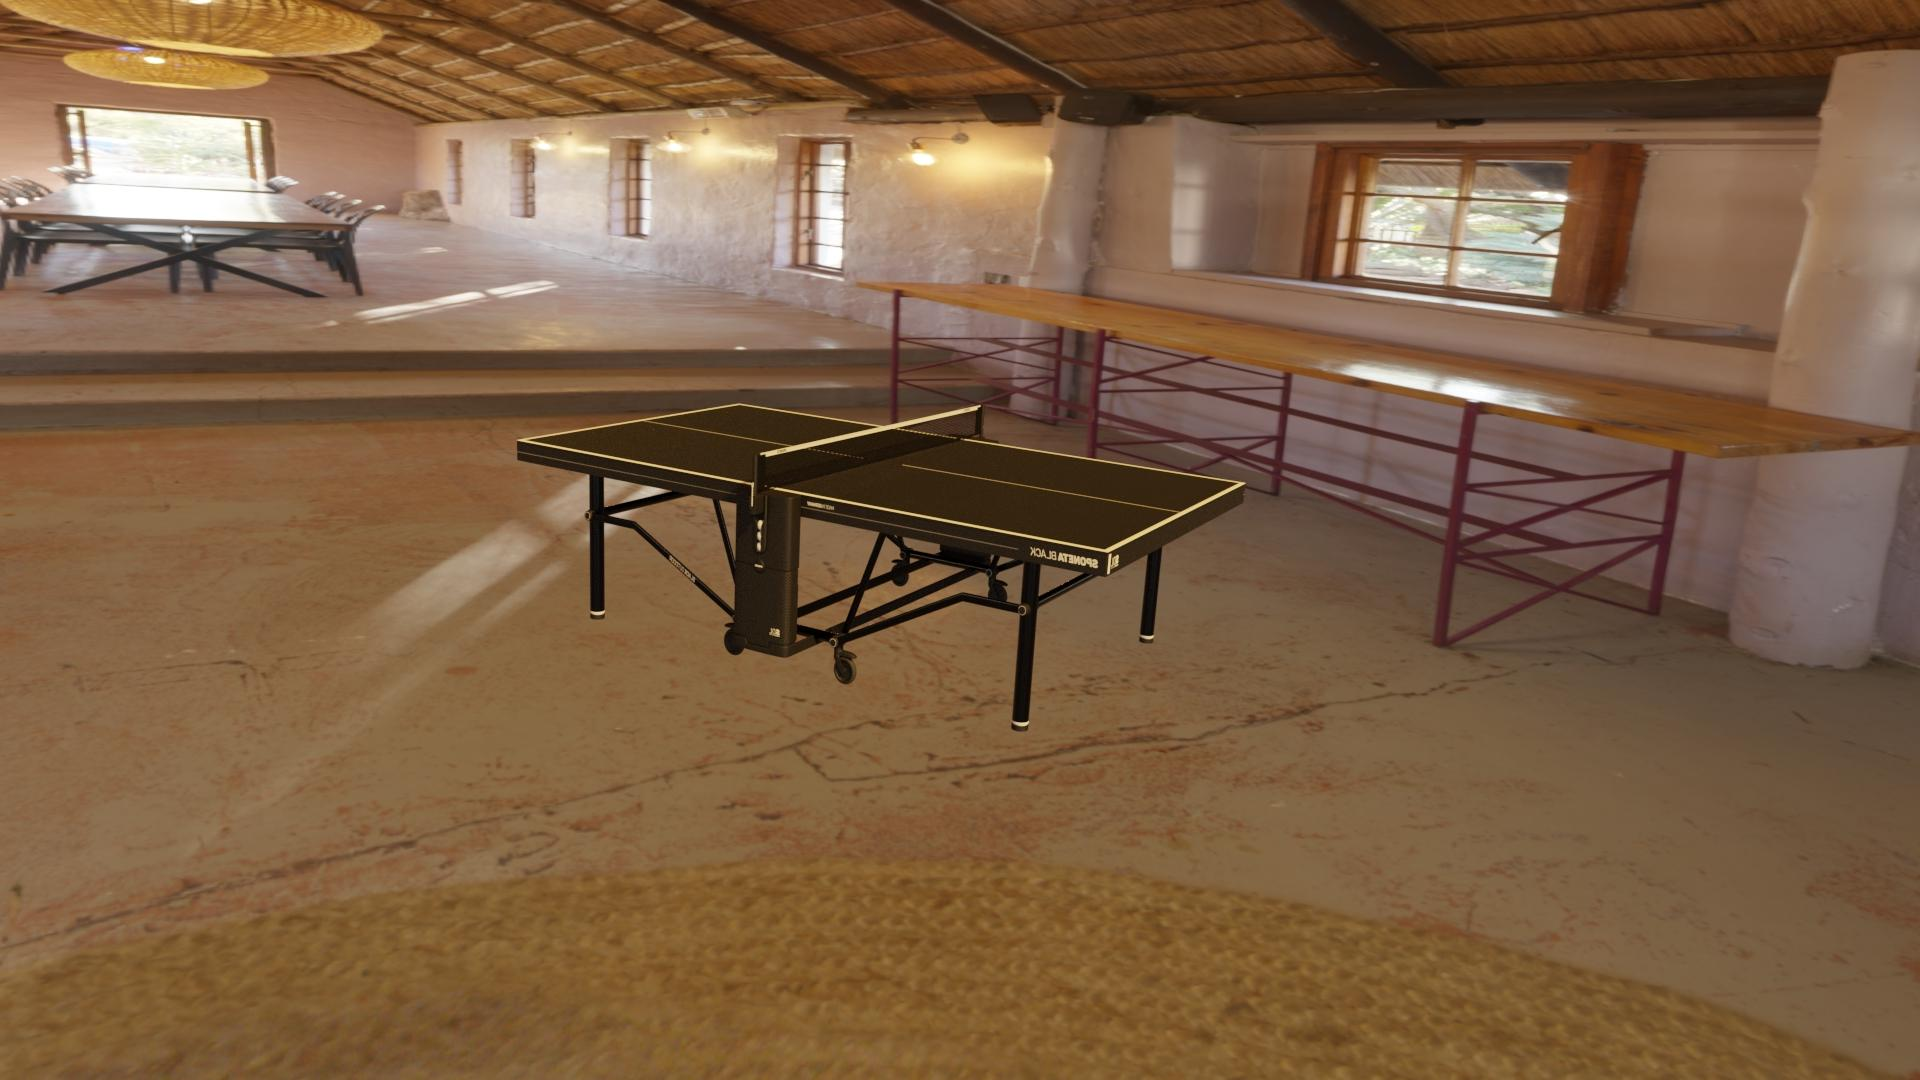table: (524, 405, 1240, 550)
